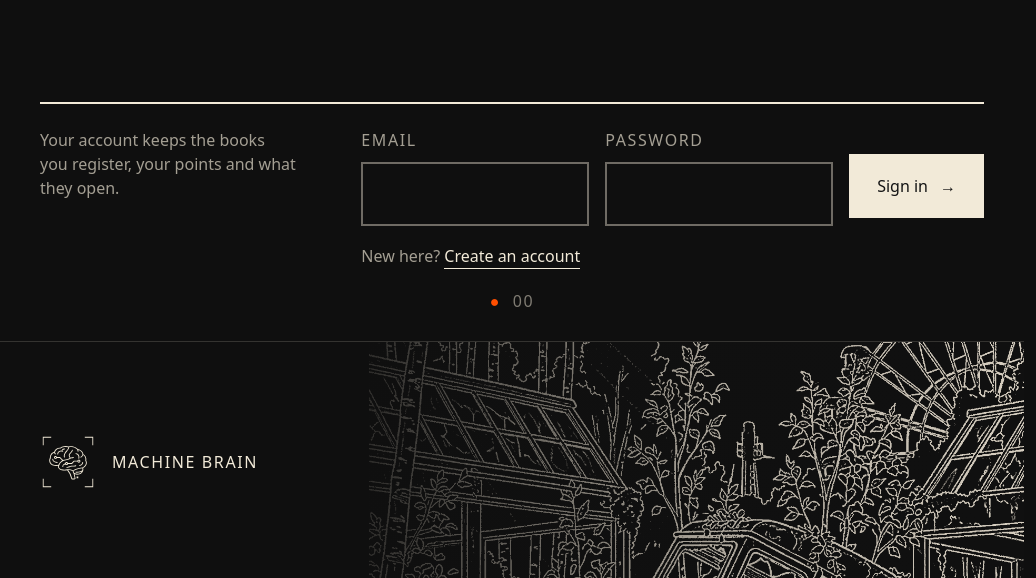
Test case: /auth errors and loading › holds the form while signing in, then explains a wrong password
(page scrolled)
Type "you@example.com" into the field labelled "Email".
click(475, 194); type("you@example.com")  # box [361, 162, 589, 226]
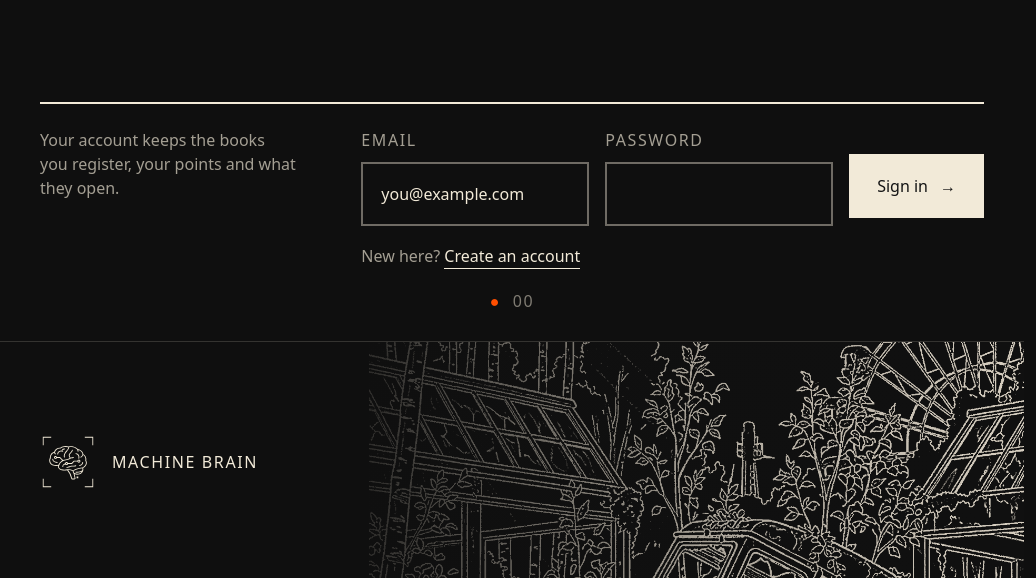
Type "secret1" into the password field labelled "Password".
click(719, 194); type("secret1")  # box [605, 162, 833, 226]
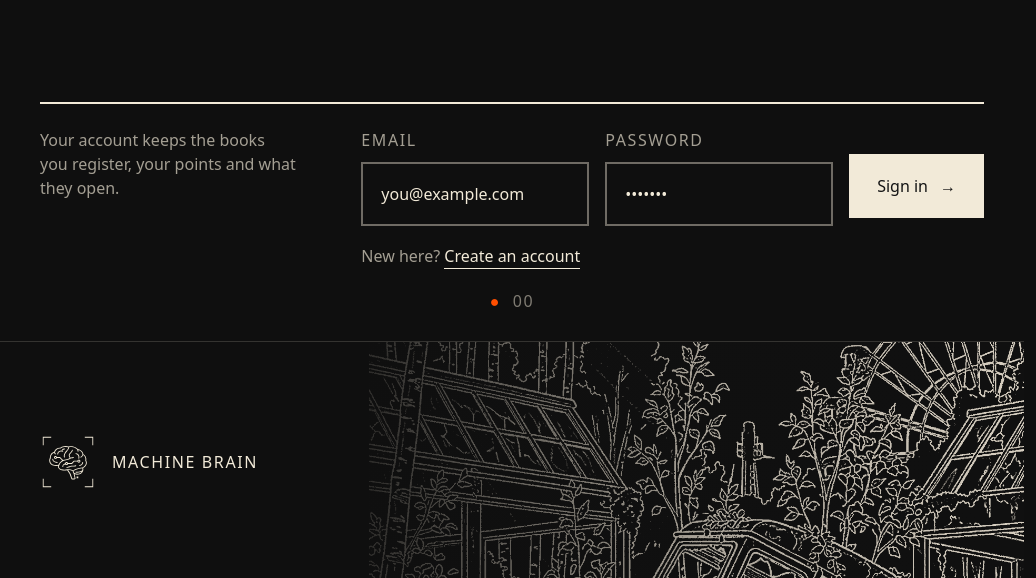
Submit the form "account", box [361, 128, 984, 269]
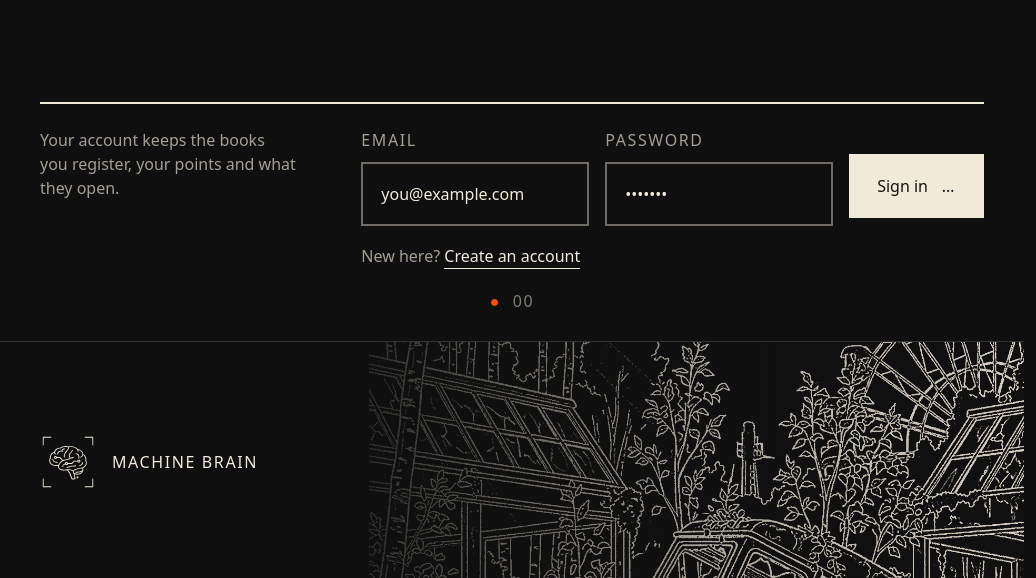
Submit the form "account", box [361, 128, 984, 269]
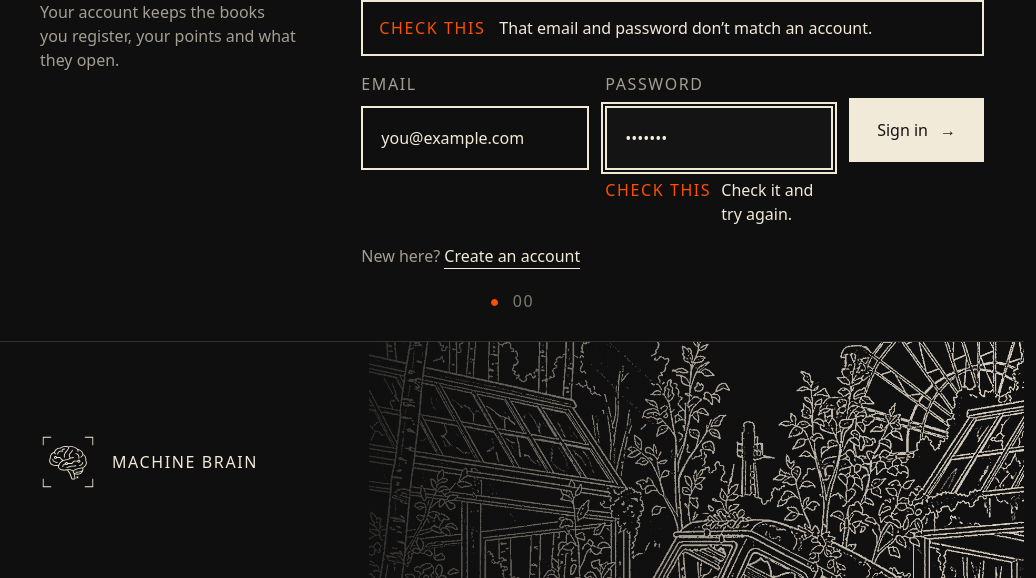
Check: the element with test id "auth-summary" shows "That email and password don’t match an account.", box [499, 17, 872, 39]
